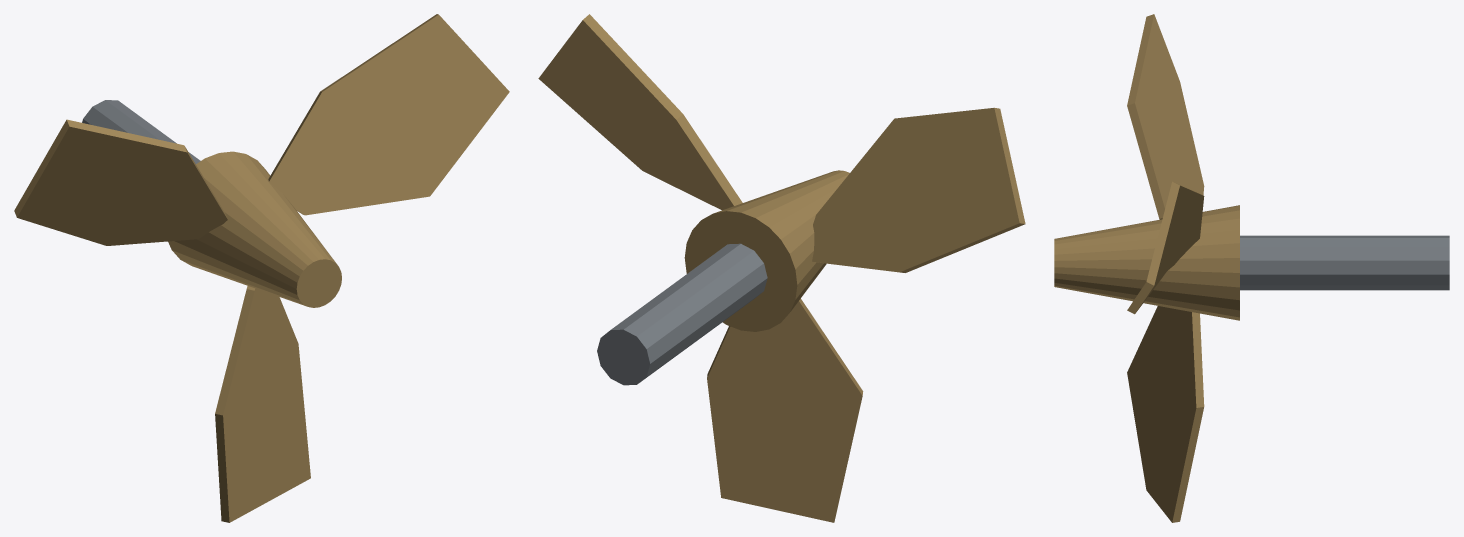
The picture shows the model from 3 angles, left to right: view 1: azimuth 30°, elevation 25°; view 2: azimuth 150°, elevation 25°; view 3: azimuth 270°, elevation 25°; orthographic projection. The views are drawn at different scales.
Visible parts, largest first — view 1: component.spin.mesh, component.root.mesh; view 2: component.spin.mesh, component.root.mesh; view 3: component.spin.mesh, component.root.mesh.
Boxes of the visible parts, box(x1,y1,x2,y2) form: component.spin.mesh: box(14, 14, 509, 522); component.root.mesh: box(82, 100, 200, 163); component.spin.mesh: box(538, 14, 1025, 522); component.root.mesh: box(597, 243, 767, 385); component.spin.mesh: box(1054, 14, 1239, 522); component.root.mesh: box(1240, 235, 1449, 290).
Bounding box in the file's own units: 3.18 × 2.8 × 2.45.
